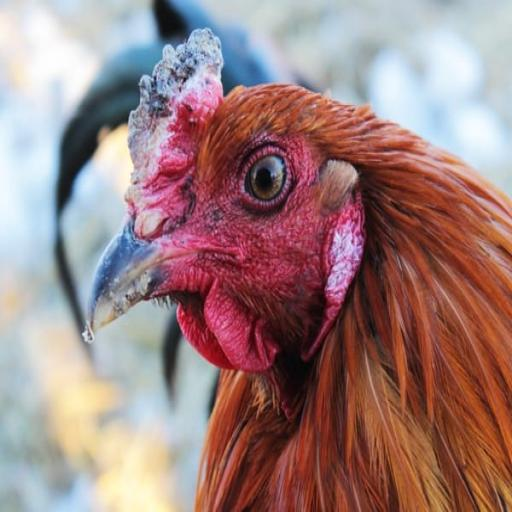disease: (104, 27, 252, 225), (96, 250, 184, 326)
